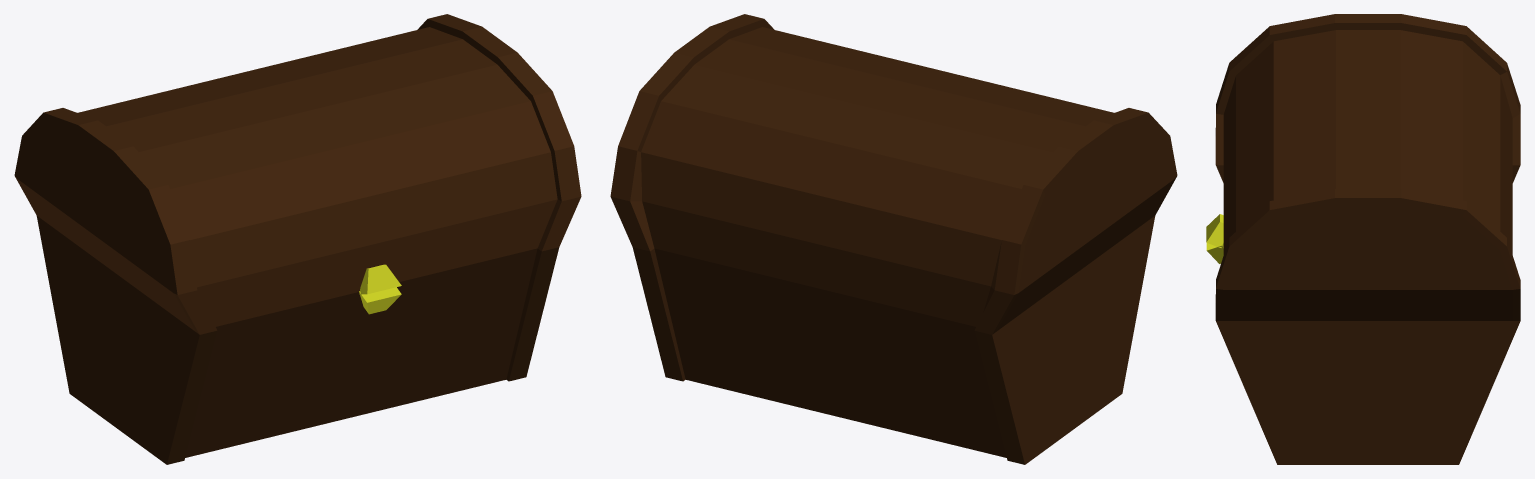
The model's file is cabesona.FBX.
The picture shows the model from 3 angles, left to right: view 1: azimuth 30°, elevation 25°; view 2: azimuth 150°, elevation 25°; view 3: azimuth 270°, elevation 25°; orthographic projection. The views are drawn at different scales.
Visible parts, largest first — view 1: Chest, Chest_2_7; view 2: Chest, Chest_2_7; view 3: Chest, Chest_2_7.
Part boxes in pixels (<box>): Chest: <box>14,14,581,334</box>; Chest_2_7: <box>36,216,559,464</box>; Chest: <box>610,14,1177,334</box>; Chest_2_7: <box>632,216,1155,464</box>; Chest: <box>1206,14,1520,320</box>; Chest_2_7: <box>1206,165,1520,464</box>.
Bounding box in the file's own units: 46.32 × 32.51 × 33.42.
